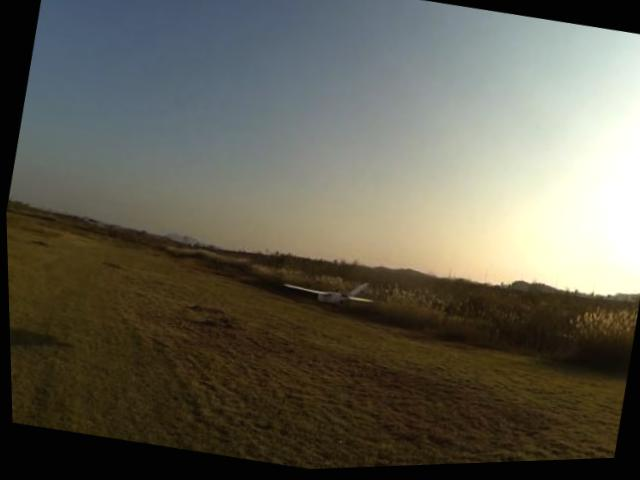uav: (268, 254, 380, 329)
